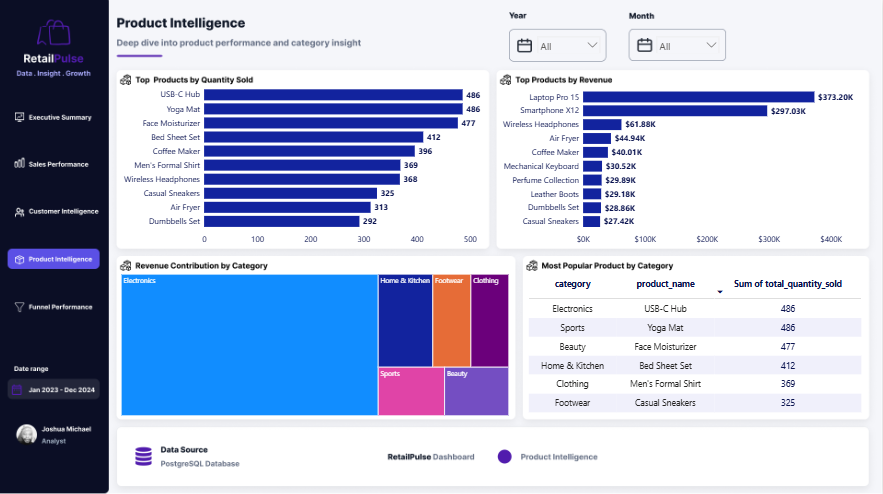

What the dashboard file says about the page in this screenshot:
{"tool":"powerbi","page":{"name":"Product Intelligence","canvas":[1920,1080],"ordinal":3},"visuals":[{"type":"clusteredBarChart","title":"Top products by quantity sold","fields":{"Category":["public products.product_name"],"Y":["Sum(public order_items.quantity)"]},"box":[263,176.1,800,363],"z":0},{"type":"clusteredBarChart","title":"Top product by revenue","fields":{"Y":["public order_items.Revenue"],"Category":["public products.product_name"]},"box":[1087,176.1,795.7,363],"z":1000},{"type":"treemap","fields":{"Group":["public products.category"],"Values":["public order_items.Revenue"]},"box":[263,593.5,852,317],"z":2000},{"type":"tableEx","title":"Most popular product by category","fields":{"Values":["public vw_top_product_per_category.category","public vw_top_product_per_category.product_name","Sum(public vw_top_product_per_category.total_quantity_sold)"]},"box":[1147.8,593.5,734.8,326.1],"z":3000},{"type":"slicer","fields":{"Values":["Date.Month"]},"box":[1422,72,156,46],"z":5000},{"type":"slicer","fields":{"Values":["Date.Year"]},"box":[1162,72,156,46],"z":6000},{"type":"actionButton","box":[21,234,199,44],"z":7000},{"type":"actionButton","box":[21,341.1,199,44],"z":8000},{"type":"actionButton","box":[21,436,199,44],"z":9000},{"type":"actionButton","box":[21,544,199,44],"z":10000},{"type":"actionButton","box":[21,645,199,44],"z":11000}]}

Visuals, with their boxes on the page's 1920x1080 design canvas (x1, y1, x2, y2). These are canvas units, not pixel positions in the 883x494 screenshot, which may show the page scaled, cropped or inside an application window:
"Top products by quantity sold" clusteredBarChart: pyautogui.locateOnScreen(263, 176, 1063, 539)
"Top product by revenue" clusteredBarChart: pyautogui.locateOnScreen(1087, 176, 1883, 539)
treemap - public products.category x public order_items.Revenue: pyautogui.locateOnScreen(263, 594, 1115, 910)
"Most popular product by category" tableEx: pyautogui.locateOnScreen(1148, 594, 1883, 920)
slicer - Date.Month: pyautogui.locateOnScreen(1422, 72, 1578, 118)
slicer - Date.Year: pyautogui.locateOnScreen(1162, 72, 1318, 118)
actionButton: pyautogui.locateOnScreen(21, 234, 220, 278)
actionButton: pyautogui.locateOnScreen(21, 341, 220, 385)
actionButton: pyautogui.locateOnScreen(21, 436, 220, 480)
actionButton: pyautogui.locateOnScreen(21, 544, 220, 588)
actionButton: pyautogui.locateOnScreen(21, 645, 220, 689)
